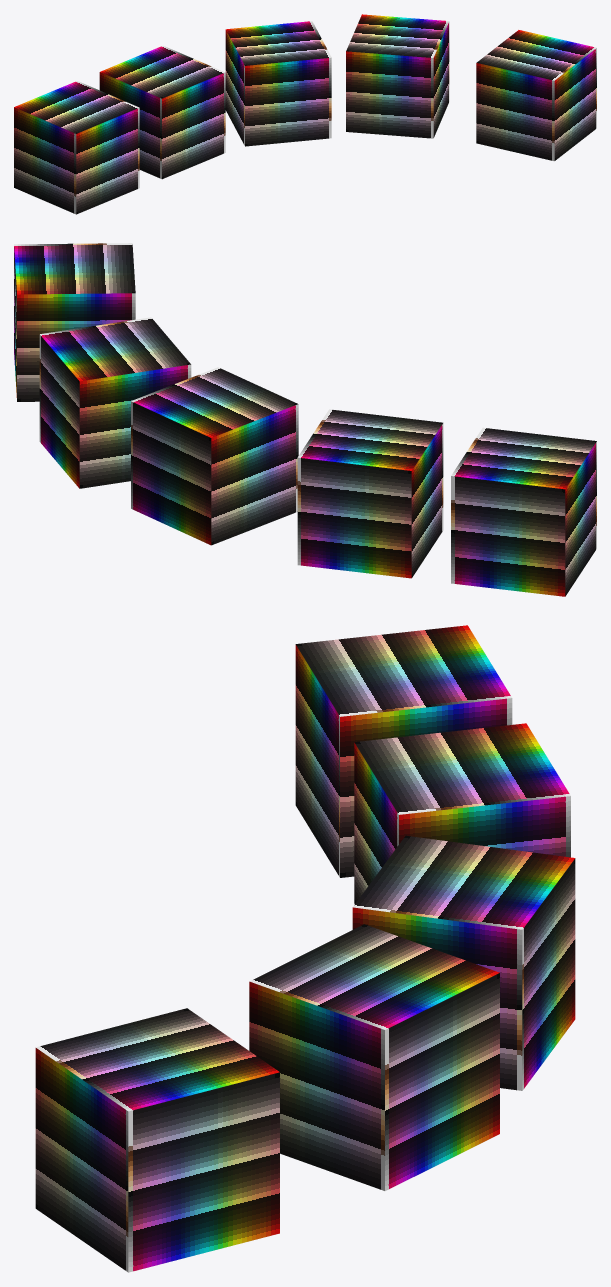
Rendered from Combined Mesh (root_ scene) 4.glb.
The picture shows the model from 3 angles, top to bottom: view 1: azimuth 30°, elevation 25°; view 2: azimuth 150°, elevation 25°; view 3: azimuth 270°, elevation 25°; orthographic projection. The views are drawn at different scales.
Parts seen in each view (by area): view 1: Combined Mesh (root_ scene) 4; view 2: Combined Mesh (root_ scene) 4; view 3: Combined Mesh (root_ scene) 4.
Part boxes in pixels (<box>): Combined Mesh (root_ scene) 4: <box>14,14,596,214</box>; Combined Mesh (root_ scene) 4: <box>14,243,596,596</box>; Combined Mesh (root_ scene) 4: <box>35,625,575,1272</box>.
Size of the model in its own units: 3.23 by 0.5 by 1.52.
Materials: 1 (1 with a texture image).
